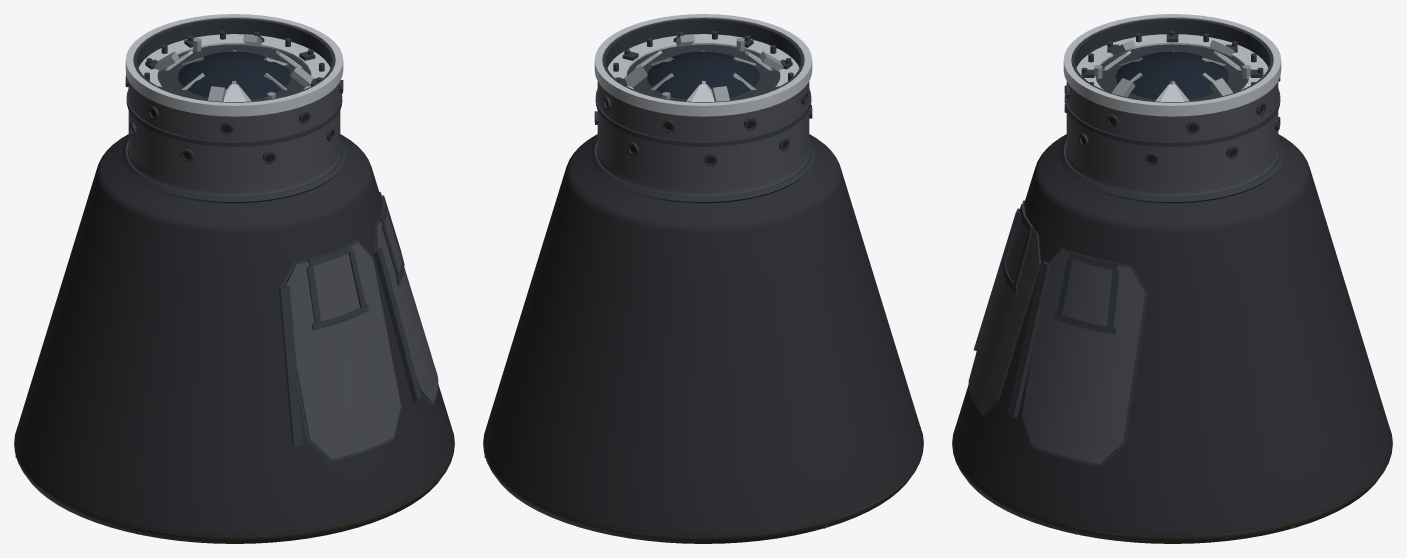
File: capsule_gemini.glb
3 renders of one model, left to right at view 1: azimuth 30°, elevation 25°; view 2: azimuth 150°, elevation 25°; view 3: azimuth 270°, elevation 25°, orthographic.
Parts seen in each view (by area): view 1: body, slot_windows__cupola, slot_docking__cbm; view 2: body, slot_windows__cupola, slot_docking__cbm; view 3: body, slot_windows__cupola, slot_docking__cbm, slot_docking__ssvp.
Part boxes in pixels (x1,y1,x2,y2): body: [14, 14, 454, 543]; slot_windows__cupola: [178, 49, 290, 99]; slot_docking__cbm: [138, 30, 330, 101]; body: [483, 14, 923, 543]; slot_windows__cupola: [647, 49, 759, 99]; slot_docking__cbm: [607, 30, 799, 101]; body: [952, 14, 1392, 543]; slot_windows__cupola: [1116, 49, 1228, 99]; slot_docking__cbm: [1076, 30, 1268, 97]; slot_docking__ssvp: [1082, 34, 1262, 78].
Bounding box in the file's own units: 1.87 × 1.84 × 1.87.
20 materials, 1 textured.
